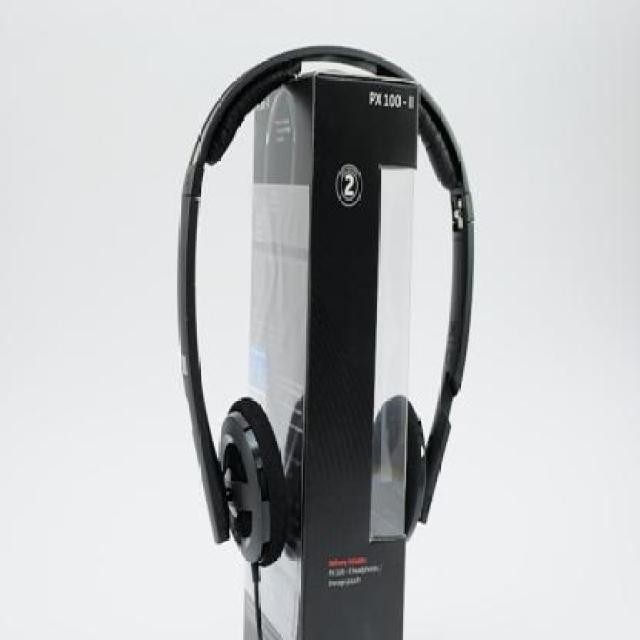earphone: (140, 32, 495, 554)
